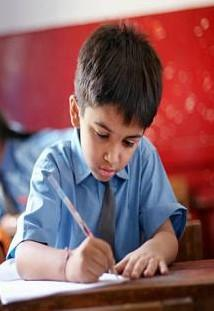good: (0, 11, 197, 311)
